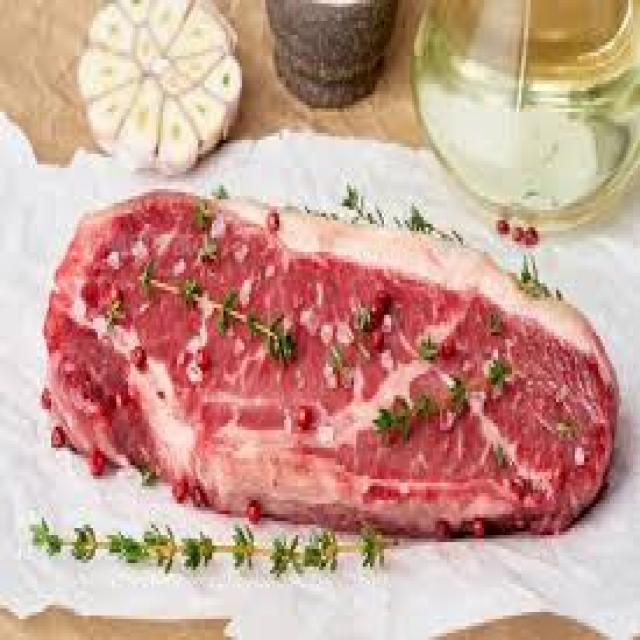Organik: (39, 193, 620, 532), (78, 0, 255, 175)
